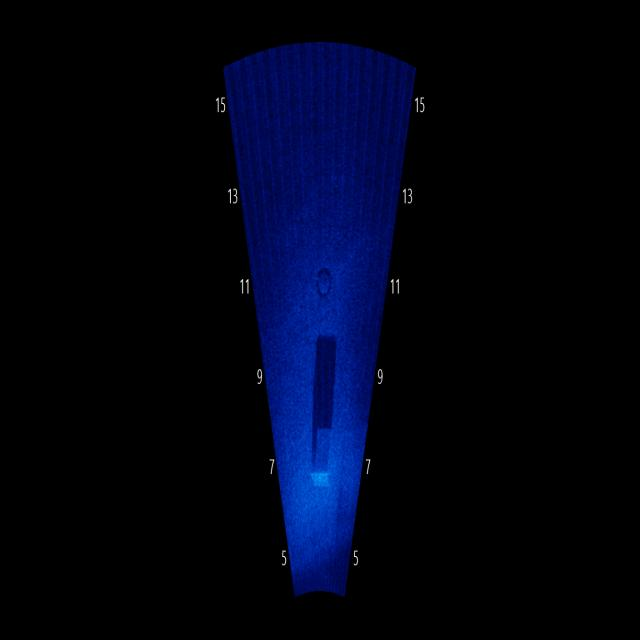square: (300, 406, 341, 498)
